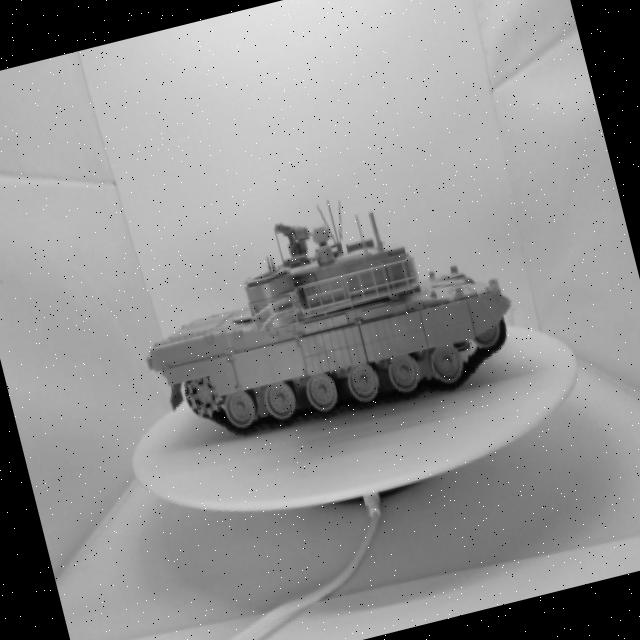korea tank: (87, 128, 554, 504)
